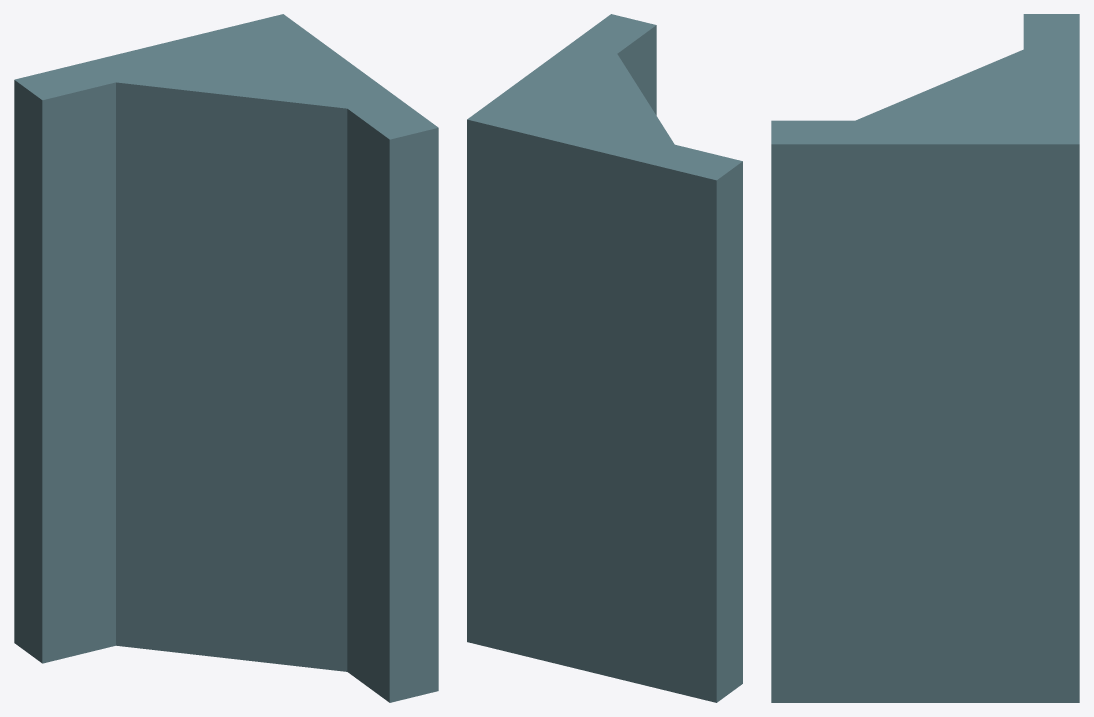
Rendered from W1_WallCorner_Angular1B.fbx.
3 views of the same model, side by side, from view 1: azimuth 30°, elevation 25°; view 2: azimuth 150°, elevation 25°; view 3: azimuth 270°, elevation 25° (orthographic). The views are drawn at different scales.
Visible parts, largest first — view 1: W1_WallCorner_Angular1B.001; view 2: W1_WallCorner_Angular1B.001; view 3: W1_WallCorner_Angular1B.001.
Boxes of the visible parts, x1=… form: W1_WallCorner_Angular1B.001: x1=14, y1=14, x2=438, y2=702; W1_WallCorner_Angular1B.001: x1=467, y1=14, x2=742, y2=702; W1_WallCorner_Angular1B.001: x1=771, y1=14, x2=1079, y2=702.
Size of the model in its own units: 1.1 by 2.2 by 1.1.
